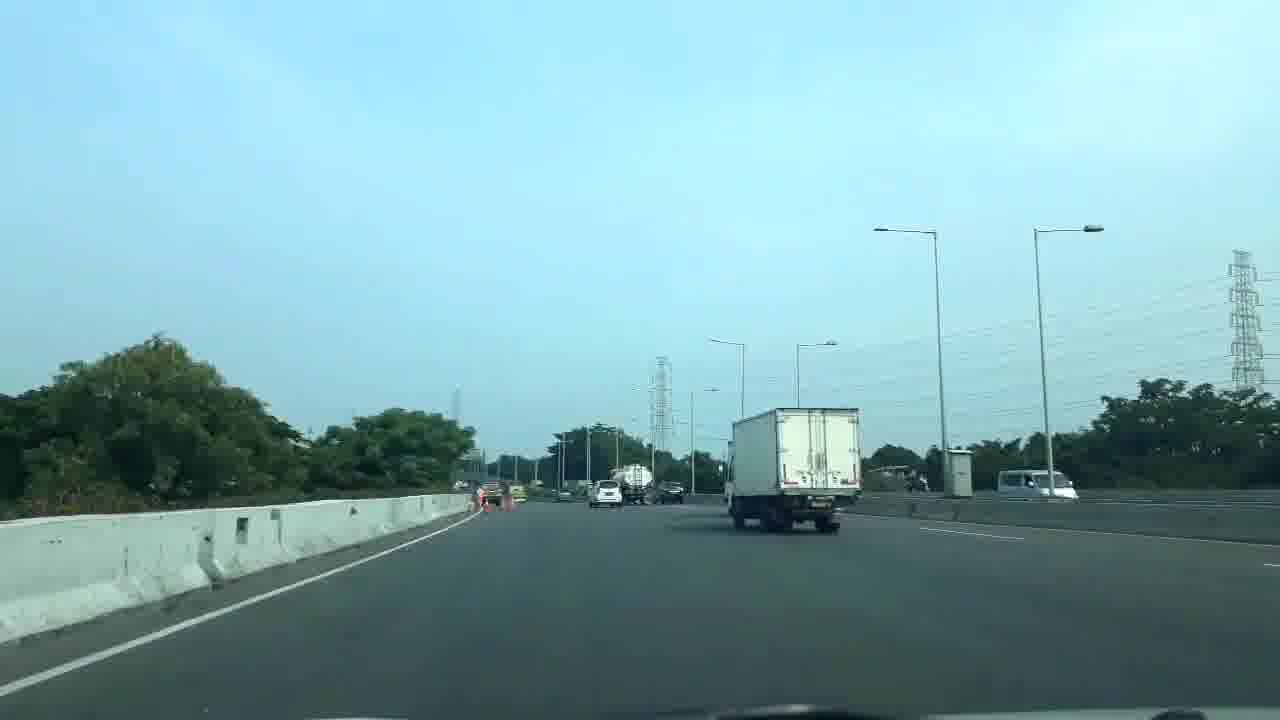plate_positive: (810, 500, 832, 508)
